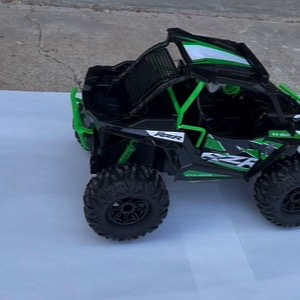polaris: (68, 27, 300, 244)
